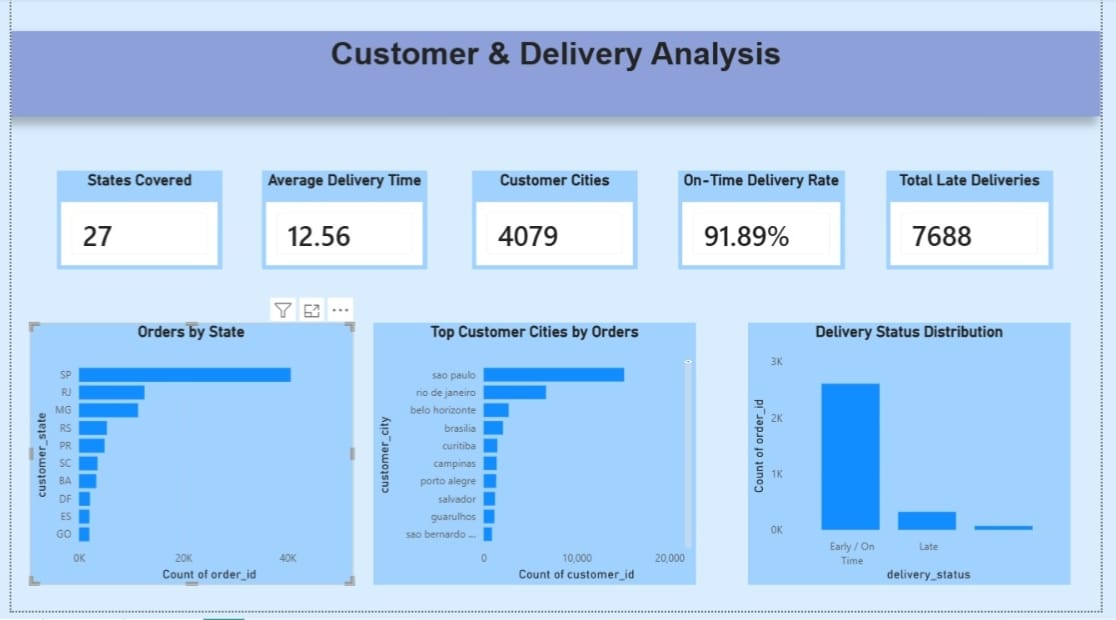

This screenshot's page, from the dashboard's own definition file:
{"tool":"powerbi","page":{"name":"Page 2","canvas":[1280,720],"ordinal":1},"visuals":[{"type":"cardVisual","title":"States Covered","fields":{"Data":["Count(olist_master_dataset.customer_state)"]},"box":[53.8,203,194.4,116.2],"z":0},{"type":"cardVisual","title":"Average Delivery Time","fields":{"Data":["olist_master_dataset.Avg Delivery Days Per Order"]},"box":[294.7,203,194.4,116.2],"z":1000},{"type":"cardVisual","title":"On-Time Delivery Rate","fields":{"Data":["olist_master_dataset.On-Time Delivery Rate"]},"box":[783.8,203,195.7,116.2],"z":2000},{"type":"cardVisual","title":"Customer Cities","fields":{"Data":["Count(olist_master_dataset.customer_city)"]},"box":[541.7,203,194.4,116.2],"z":3000},{"type":"cardVisual","title":"Total Late Deliveries","fields":{"Data":["olist_master_dataset.Total Late Deliveries"]},"box":[1028.4,203,195.7,116.2],"z":4000},{"type":"clusteredBarChart","title":"Orders by State","fields":{"Category":["olist_master_dataset.customer_state"],"Y":["Count(olist_master_dataset.order_id)"]},"box":[22.6,380.9,379.3,308.3],"z":5000},{"type":"clusteredBarChart","title":"Top  Customer Cities by Orders","fields":{"Category":["olist_master_dataset.customer_city"],"Y":["Count(olist_master_dataset.customer_id)"]},"box":[426.1,380.9,379.3,308.3],"z":6000},{"type":"clusteredColumnChart","title":"Delivery Status Distribution","fields":{"Category":["olist_master_dataset.delivery_status"],"Y":["CountNonNull(olist_master_dataset.order_id)"]},"box":[865.2,380.9,379.3,308.3],"z":7000},{"type":"textbox","box":[0,39.1,1280.3,100.3],"z":8000}]}

Visuals, with their boxes in screenshot pixels (x1, y1, x2, y2), scaled from the page's 1280x720 canvas onto the 1116x620 screenshot:
"States Covered" cardVisual: 47, 175, 216, 275
"Average Delivery Time" cardVisual: 257, 175, 426, 275
"On-Time Delivery Rate" cardVisual: 683, 175, 854, 275
"Customer Cities" cardVisual: 472, 175, 642, 275
"Total Late Deliveries" cardVisual: 897, 175, 1067, 275
"Orders by State" clusteredBarChart: 20, 328, 350, 593
"Top  Customer Cities by Orders" clusteredBarChart: 372, 328, 702, 593
"Delivery Status Distribution" clusteredColumnChart: 754, 328, 1085, 593
textbox: 0, 34, 1115, 120
